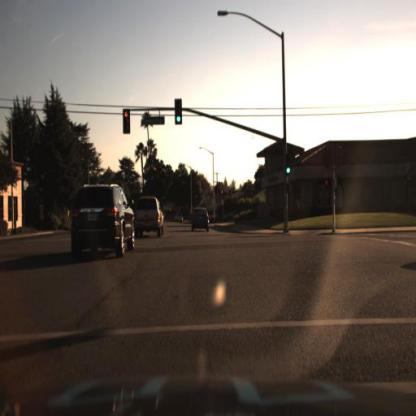car: (67, 174, 140, 270), (129, 196, 170, 243), (184, 202, 218, 238), (172, 210, 187, 229)
trafficLight-Green: (175, 101, 184, 125), (284, 162, 292, 181)
trafficLight-RedLeft: (122, 107, 132, 127)
